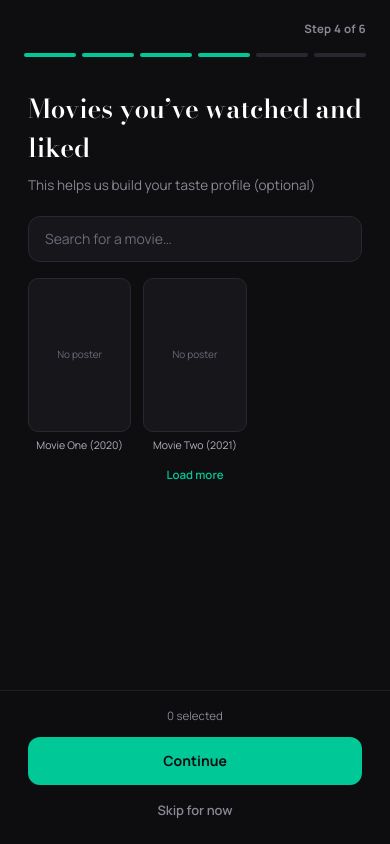
WatchedStep › rolls back the toggle when markWatched fails
This screenshot has width=390, height=844.
Click the text "Movie One (2020)".
click(80, 446)  # box [36,438,123,452]
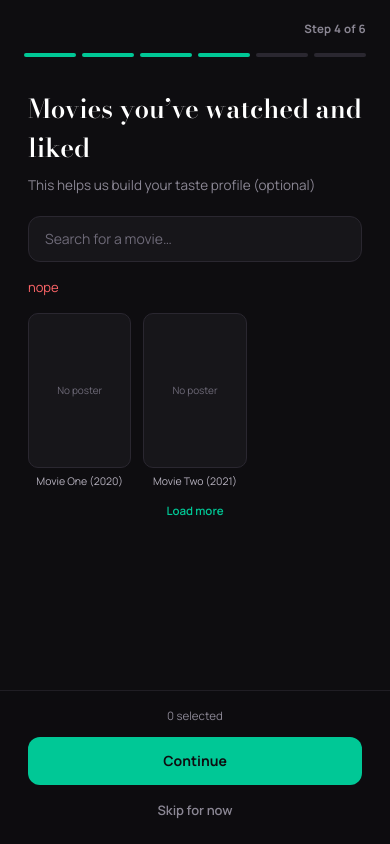
Check: the text "0 selected" is shown, box [167,708,223,723]
Check: the message reads "nope", box [28,278,59,296]
